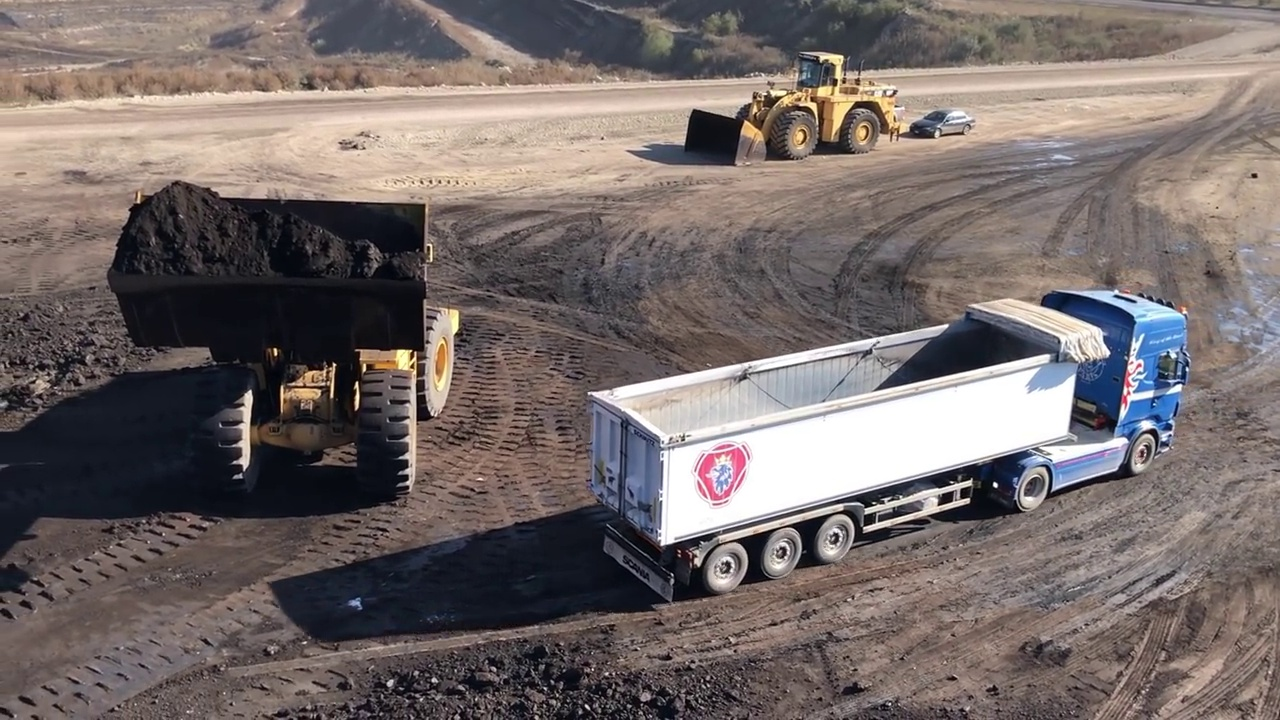car: (911, 107, 974, 137)
truck: (587, 291, 1191, 597)
wheel loader: (109, 186, 461, 495), (683, 49, 901, 168)
